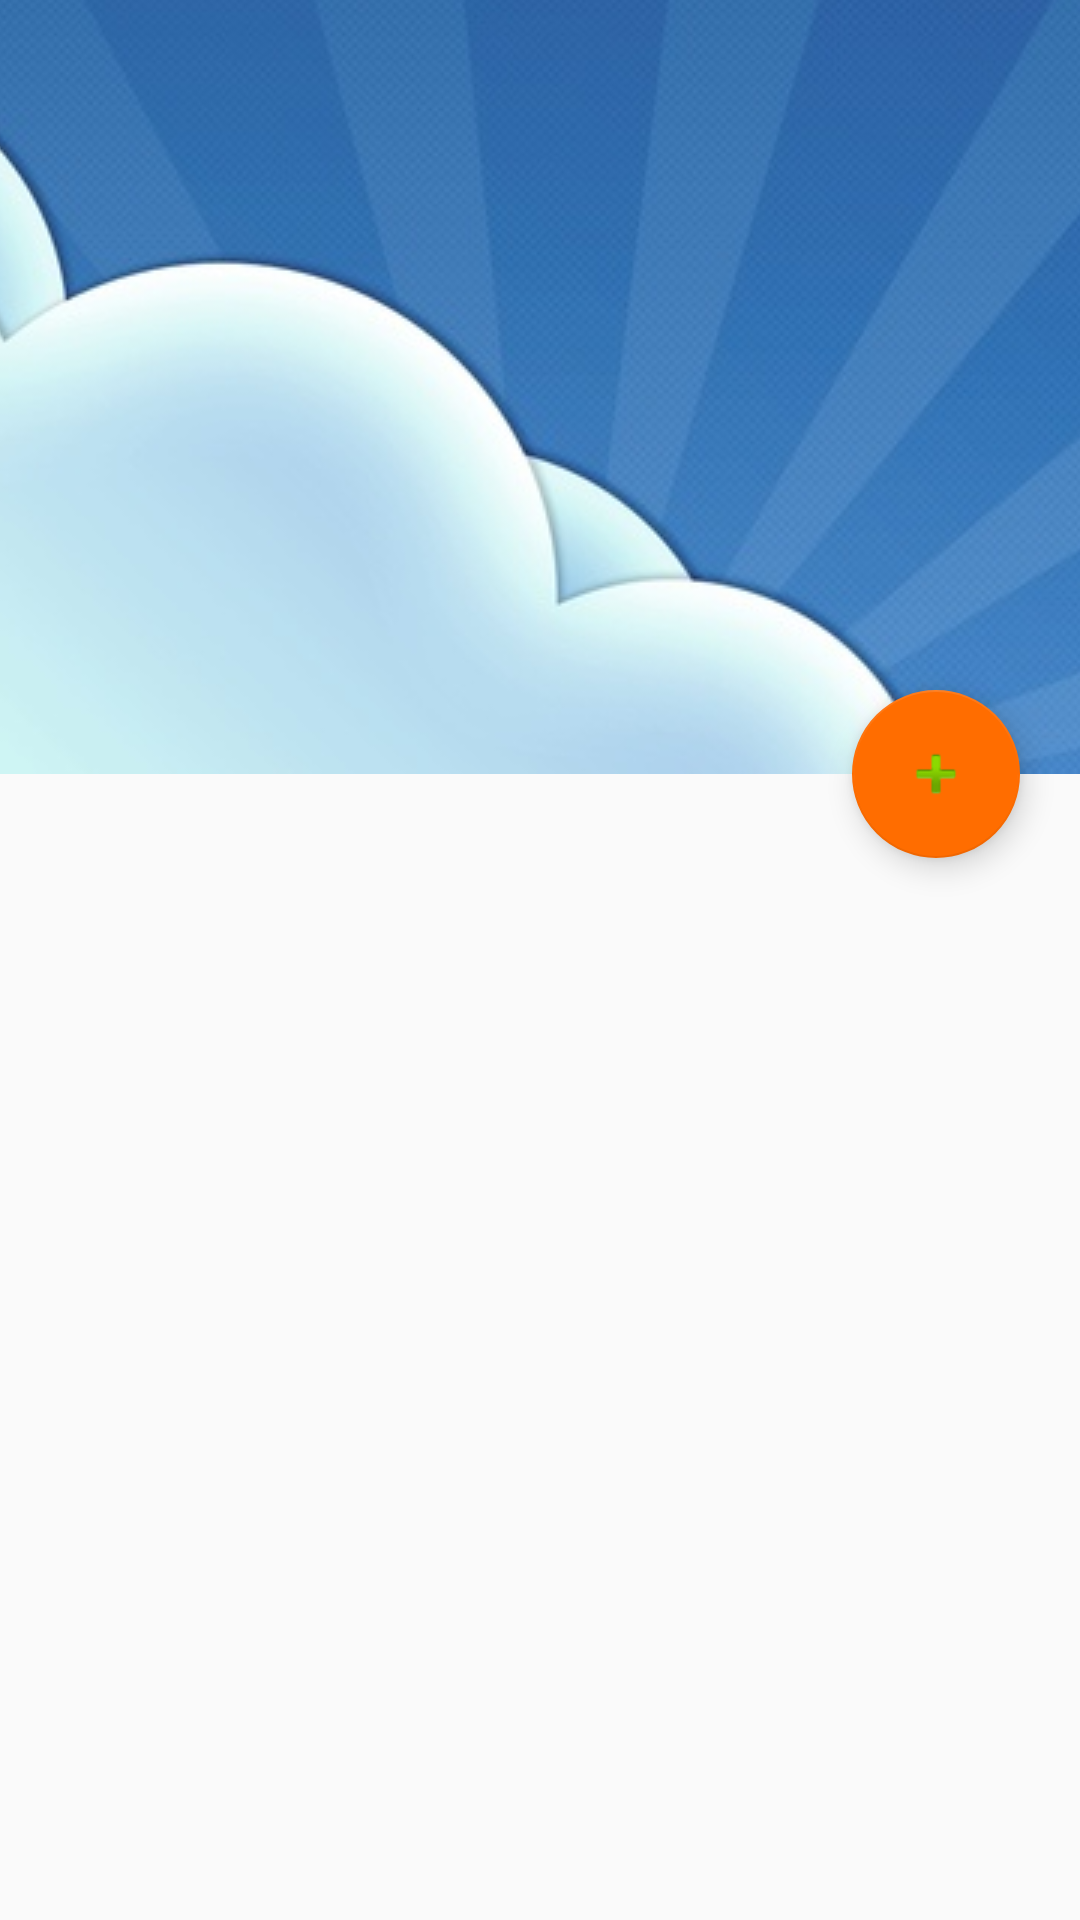

Point at icon controls on the screen. Image size 1080*1920, points as [x,y].
add: [936,774]
